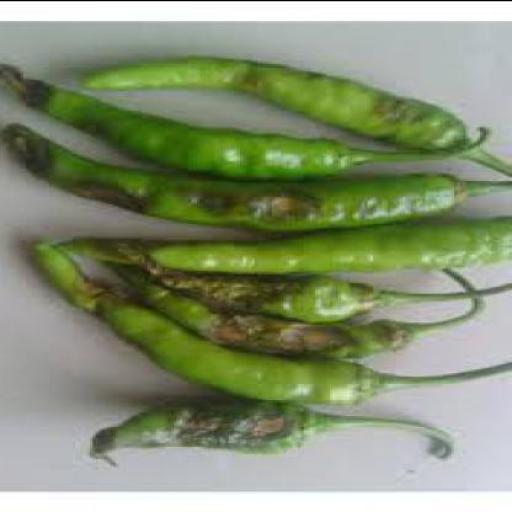biodegradable: (32, 241, 511, 409), (2, 64, 495, 182), (2, 123, 511, 234), (81, 56, 511, 178), (113, 264, 489, 361), (118, 240, 511, 324), (54, 214, 511, 277), (87, 402, 457, 464)
